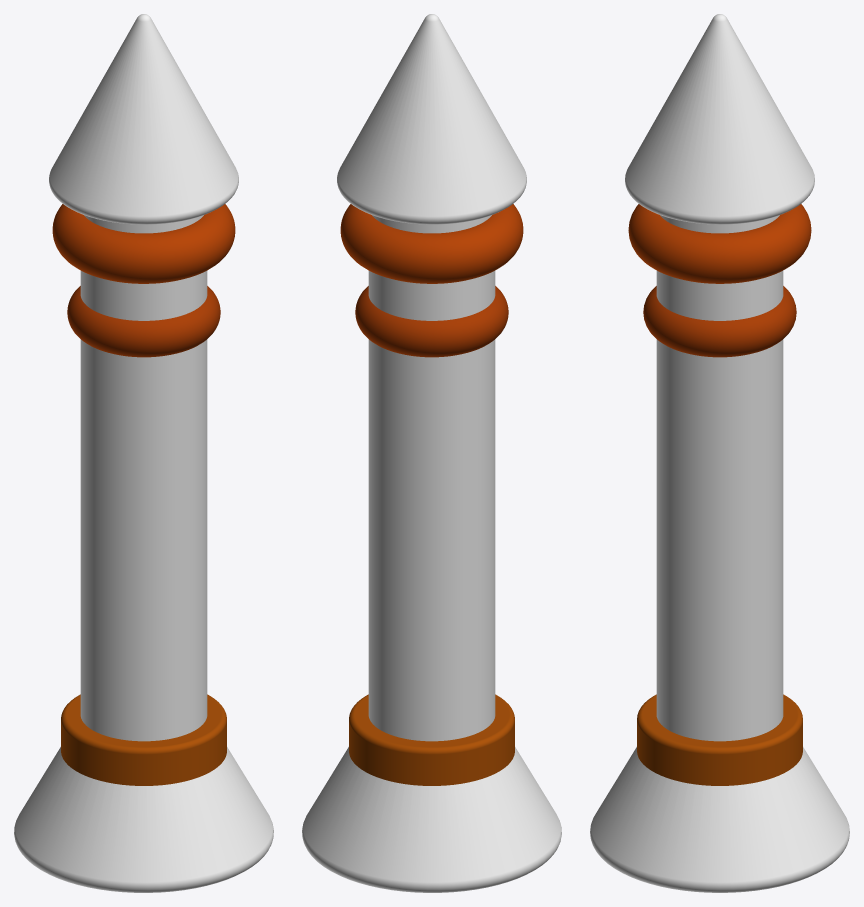
File: Piller.glb
3 views of the same model, side by side, from view 1: azimuth 30°, elevation 25°; view 2: azimuth 150°, elevation 25°; view 3: azimuth 270°, elevation 25° (orthographic).
Visible parts, largest first — view 1: Cylinder, Cone, Cone 1, Torus, Tube, Torus 1; view 2: Cylinder, Cone, Cone 1, Torus, Tube, Torus 1; view 3: Cylinder, Cone, Cone 1, Torus, Tube, Torus 1.
Boxes of the visible parts, <box> form: Cylinder: <box>80,215,207,741</box>; Cone: <box>14,747,273,892</box>; Cone 1: <box>49,14,238,224</box>; Torus: <box>52,204,235,283</box>; Tube: <box>61,694,226,785</box>; Torus 1: <box>67,286,220,357</box>; Cylinder: <box>368,215,495,741</box>; Cone: <box>302,747,561,892</box>; Cone 1: <box>337,14,526,224</box>; Torus: <box>340,204,523,283</box>; Tube: <box>349,694,514,785</box>; Torus 1: <box>355,286,508,357</box>; Cylinder: <box>656,215,783,741</box>; Cone: <box>590,747,849,892</box>; Cone 1: <box>625,14,814,224</box>; Torus: <box>628,204,811,283</box>; Tube: <box>637,694,802,785</box>; Torus 1: <box>643,286,796,357</box>.
Bounding box in the file's own units: 0.1053 × 0.3695 × 0.1053.
